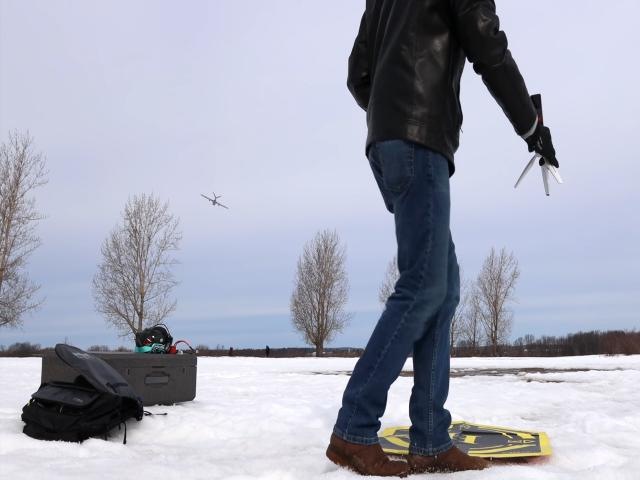plane: (200, 191, 227, 207)
